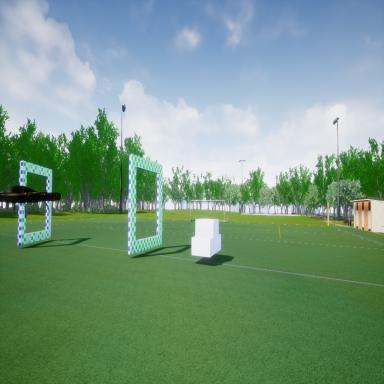gate: (125, 149, 164, 261)
